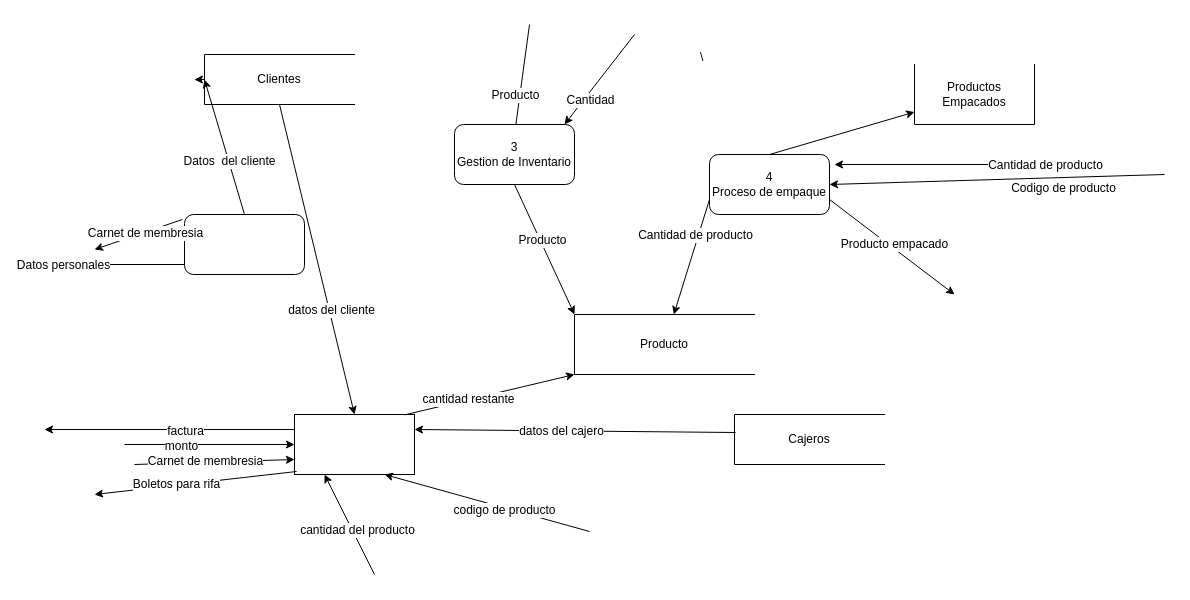
The diagram is 1190 pixels wide and 600 high, and some of its shapes have lost their labels. The centre of each missing label's shape, as x and y in pixels:
"1 Proceso de registro" goes at pixel 244 244.
"2 Proceso de compra" goes at pixel 354 444.
